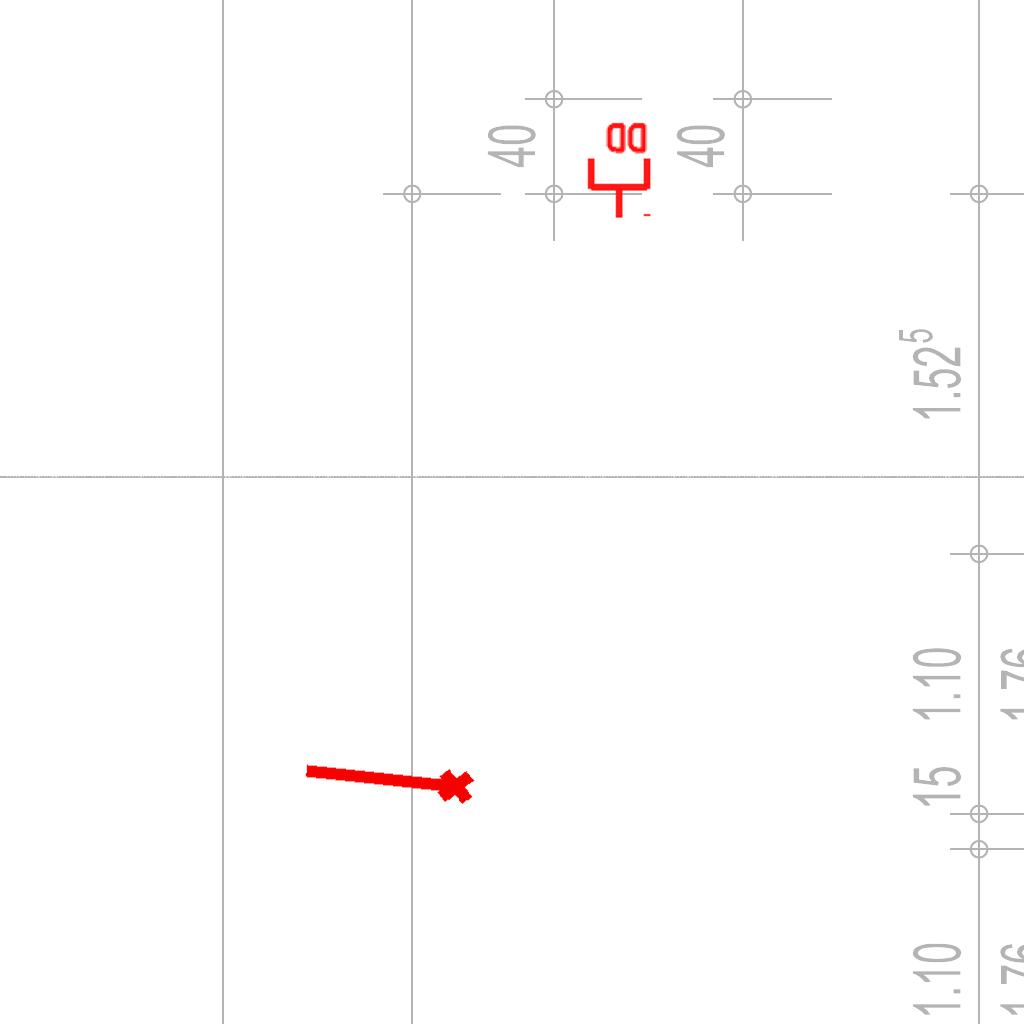ASR_Ansaugoeffnung: (298, 749, 478, 815)
Datenanschluss_zweifach: (583, 118, 652, 221)
